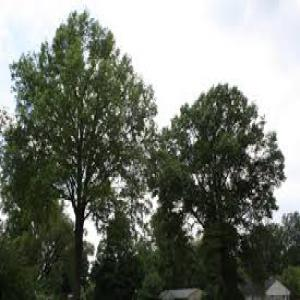Tree: (3, 5, 155, 292), (149, 75, 286, 292)
